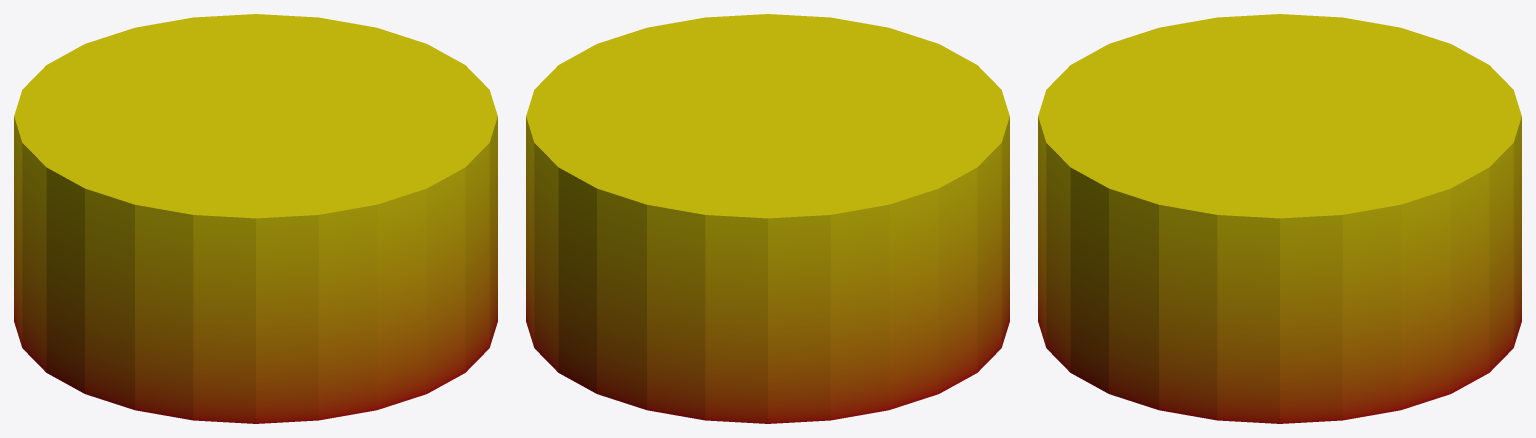
Rendered from tower_drum.glb.
3 views of the same model, side by side, from view 1: azimuth 30°, elevation 25°; view 2: azimuth 150°, elevation 25°; view 3: azimuth 270°, elevation 25° (orthographic).
Visible parts, largest first — view 1: tower_drum; view 2: tower_drum; view 3: tower_drum.
Part boxes in pixels (x1=…): tower_drum: x1=14, y1=14, x2=497, y2=423; tower_drum: x1=526, y1=14, x2=1009, y2=423; tower_drum: x1=1038, y1=14, x2=1521, y2=423.
Size of what is drawn, in the model's own units: 6.4 by 3 by 6.4.
